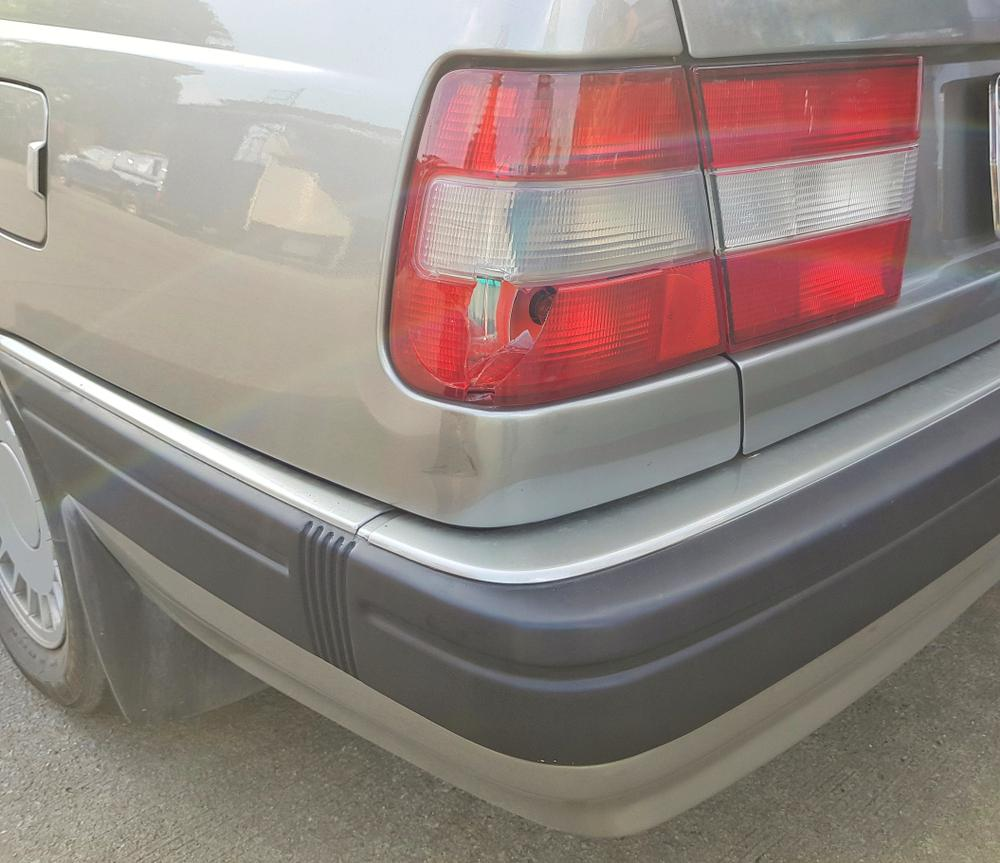dent: (432, 438, 481, 506)
lamp broken: (384, 61, 730, 414)
